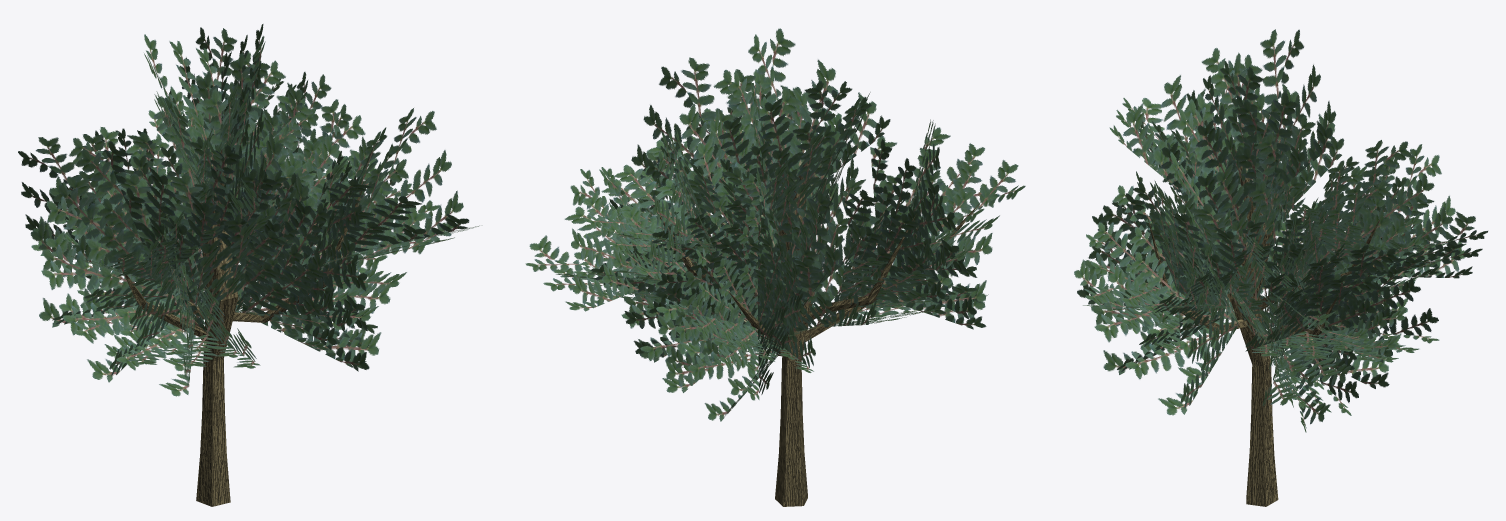
File: tree_2.glb
3 renders of one model, left to right at view 1: azimuth 30°, elevation 25°; view 2: azimuth 150°, elevation 25°; view 3: azimuth 270°, elevation 25°, orthographic. The views are drawn at different scales.
Parts seen in each view (by area): view 1: tree_2; view 2: tree_2; view 3: tree_2.
Part boxes in pixels (<box>): tree_2: <box>18,24,479,506</box>; tree_2: <box>525,28,1025,506</box>; tree_2: <box>1074,29,1487,506</box>.
Size of what is drawn, in the model's own units: 6.16 by 6.87 by 5.68.
Materials: 2 (2 with a texture image).
